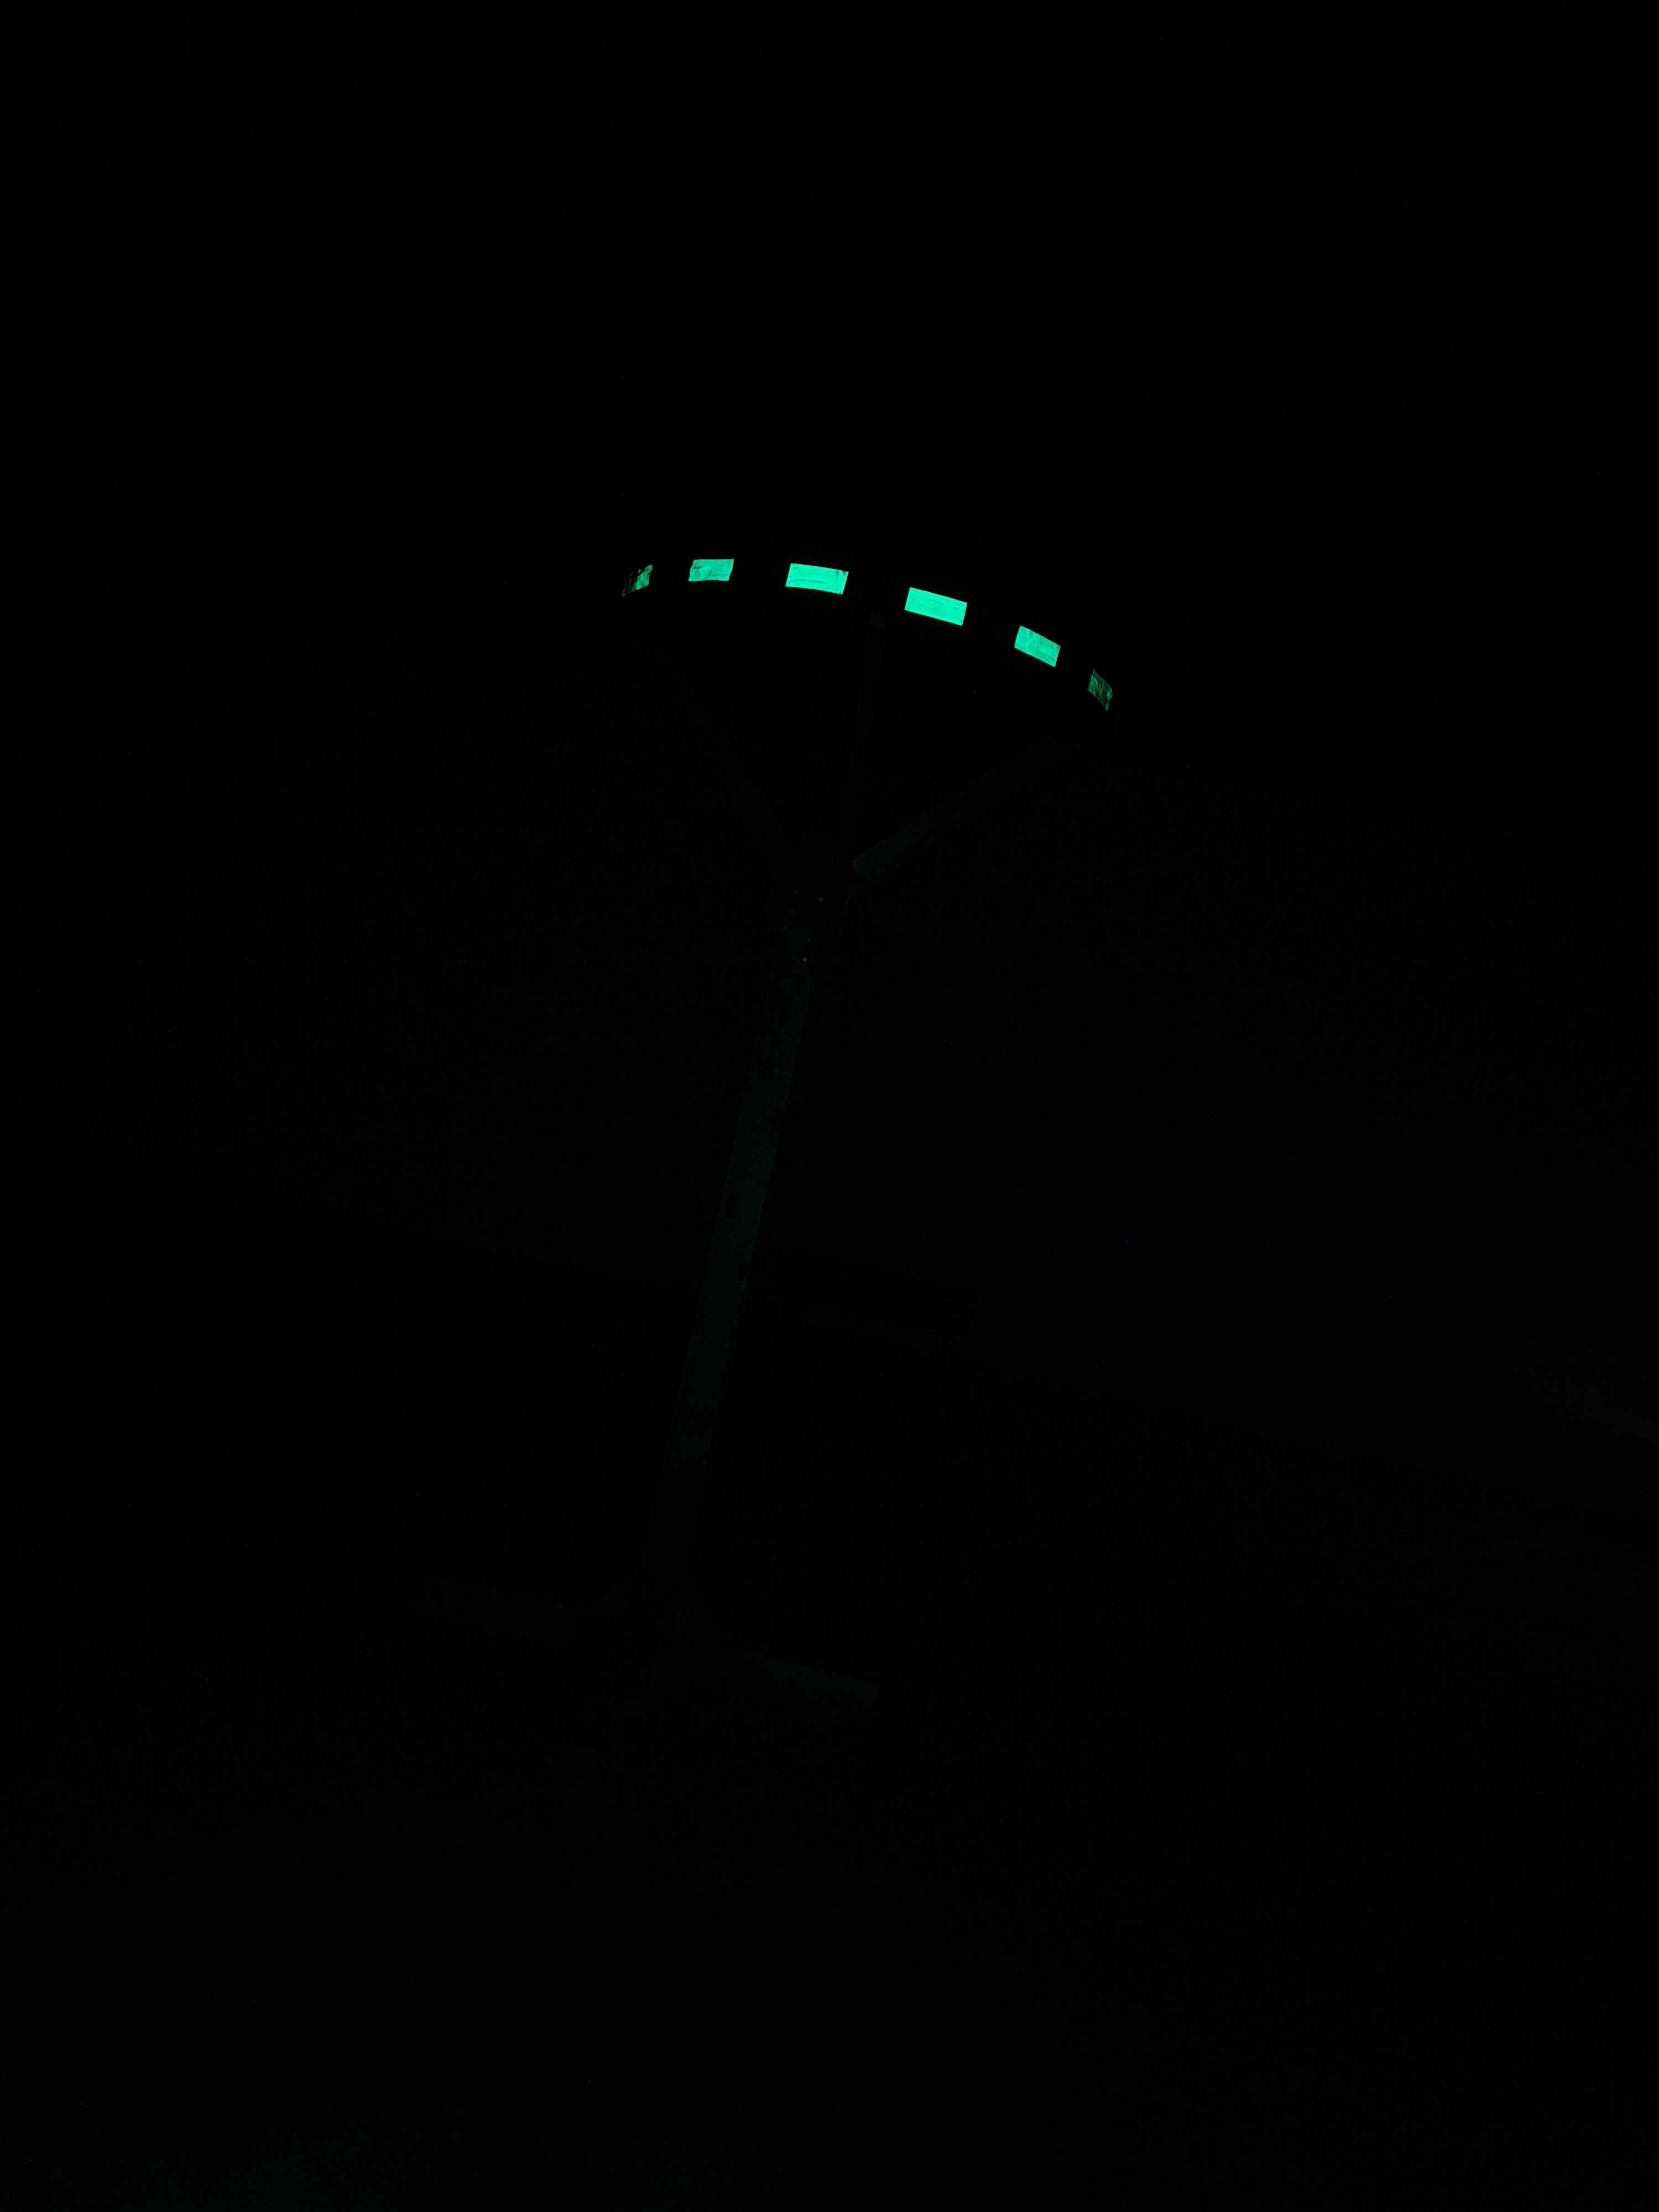hoop: (619, 538, 1121, 719)
